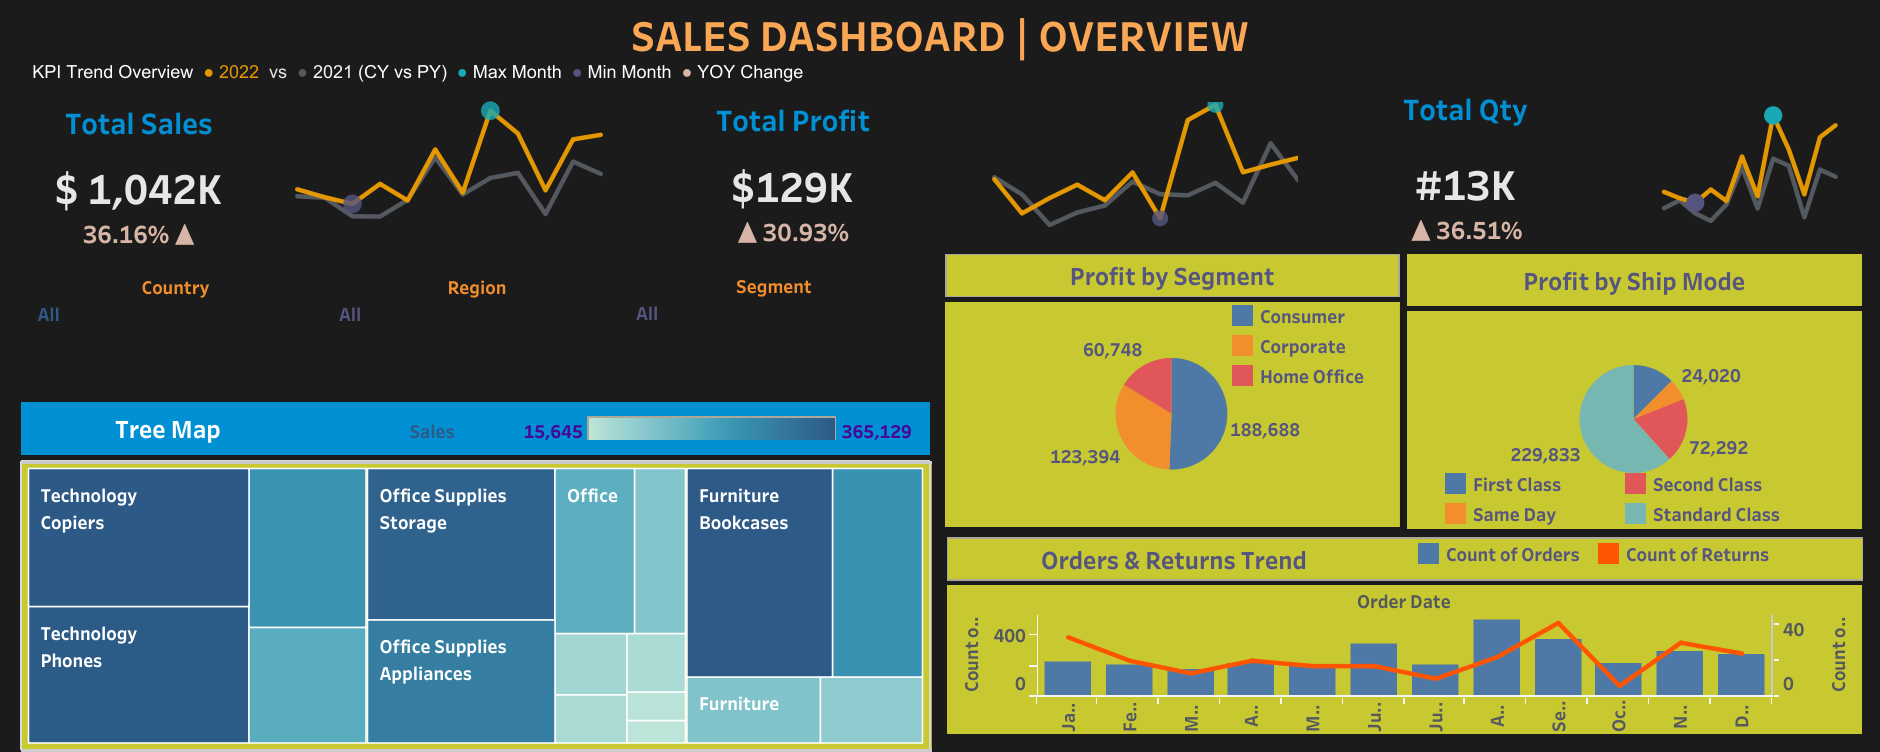

Layout of this report page (visuals, bound fields, positions):
{"tool":"tableau","page":{"name":"Sales Dashboard","canvas":[1000,1000],"units":"permille","ordinal":0},"visuals":[{"type":"text","box":[7.5,15,985,57.3]},{"type":"text","box":[15,71,602.8,48.6]},{"type":"worksheet","title":"Qty KPI","mark":"Automatic","box":[689.4,112.2,179.6,222.4]},{"type":"worksheet","title":"Sales Sparkline","mark":"Automatic","rows":["Calculation_465841123697496076"],"cols":["Order Date"],"box":[143.1,127.1,189.9,201.9]},{"type":"worksheet","title":"Profit KPI","mark":"Automatic","box":[334,129,175.9,201.9]},{"type":"worksheet","title":"Qty Sparkline","mark":"Automatic","rows":["min max profit (copy)_465841123719139342"],"cols":["Order Date"],"box":[851.3,132.7,148.7,198.1]},{"type":"worksheet","title":"Sales KPI","mark":"Automatic","box":[5.6,134.6,137.4,198.1]},{"type":"worksheet","title":"Profit Sparkline","mark":"Automatic","rows":["min max month (copy)_465841123716083725"],"cols":["Order Date"],"box":[513.6,136.4,175.9,188.8]},{"type":"worksheet","title":"Profit by Segment","mark":"Pie","box":[502.3,336.4,241.3,362.6]},{"type":"worksheet","title":"Profit by Ship Mode","mark":"Pie","box":[748.4,336.4,241.3,364.5]},{"type":"filter","title":"Profit by Segment","param":"[federated.1b0n68r0sbg0bw1daht8x10gc04a].[none:Segment:nk]","box":[336.8,358.9,149.7,164.5]},{"type":"filter","title":"Tree Map","param":"[federated.1b0n68r0sbg0bw1daht8x10gc04a].[none:Country:nk]","box":[18.7,360.8,149.7,145.8]},{"type":"filter","title":"Profit by Segment","param":"[federated.1b0n68r0sbg0bw1daht8x10gc04a].[none:Region:nk]","box":[178.7,360.8,149.7,170.1]},{"type":"legend","title":"Profit by Segment","param":"[federated.1b0n68r0sbg0bw1daht8x10gc04a].[none:Segment:nk]","box":[652.3,398.1,108.4,115.9]},{"type":"worksheet","title":"Tree Map","mark":"Automatic","box":[10.3,534.6,485.1,465.4]},{"type":"legend","title":"Tree Map","param":"[federated.1b0n68r0sbg0bw1daht8x10gc04a].[sum:Sales:qk]","box":[217.8,545.8,271,37.4]},{"type":"worksheet","title":"Orders & Returns Trend","mark":"Automatic","rows":["Orders_37C0AF195DD848B69D545BF93F3E2070","Returns_5CF7C0A17D7748A48A362F273FE588DF"],"cols":["Order Date"],"box":[499.9,706.1,492.7,278.9]},{"type":"legend","title":"Orders & Returns Trend","param":"[federated.1b0n68r0sbg0bw1daht8x10gc04a].[:Measure Names]","box":[751.4,715.9,234.6,44.9]}]}

Visuals, with their boxes on the dashboard's canvas, which has no fixed pixel size, in thousandths of its width and height (x1, y1, x2, y2). These are canvas units, not pixel positions in the 1880x752 screenshot, which may show the page scaled, cropped or inside an application window:
text: <region>8, 15, 992, 72</region>
text: <region>15, 71, 618, 120</region>
"Qty KPI" worksheet: <region>689, 112, 869, 335</region>
"Sales Sparkline" worksheet: <region>143, 127, 333, 329</region>
"Profit KPI" worksheet: <region>334, 129, 510, 331</region>
"Qty Sparkline" worksheet: <region>851, 133, 1000, 331</region>
"Sales KPI" worksheet: <region>6, 135, 143, 333</region>
"Profit Sparkline" worksheet: <region>514, 136, 690, 325</region>
"Profit by Segment" worksheet (Pie marks): <region>502, 336, 744, 699</region>
"Profit by Ship Mode" worksheet (Pie marks): <region>748, 336, 990, 701</region>
"Profit by Segment" filter: <region>337, 359, 486, 523</region>
"Tree Map" filter: <region>19, 361, 168, 507</region>
"Profit by Segment" filter: <region>179, 361, 328, 531</region>
"Profit by Segment" legend: <region>652, 398, 761, 514</region>
"Tree Map" worksheet: <region>10, 535, 495, 1000</region>
"Tree Map" legend: <region>218, 546, 489, 583</region>
"Orders & Returns Trend" worksheet: <region>500, 706, 993, 985</region>
"Orders & Returns Trend" legend: <region>751, 716, 986, 761</region>
